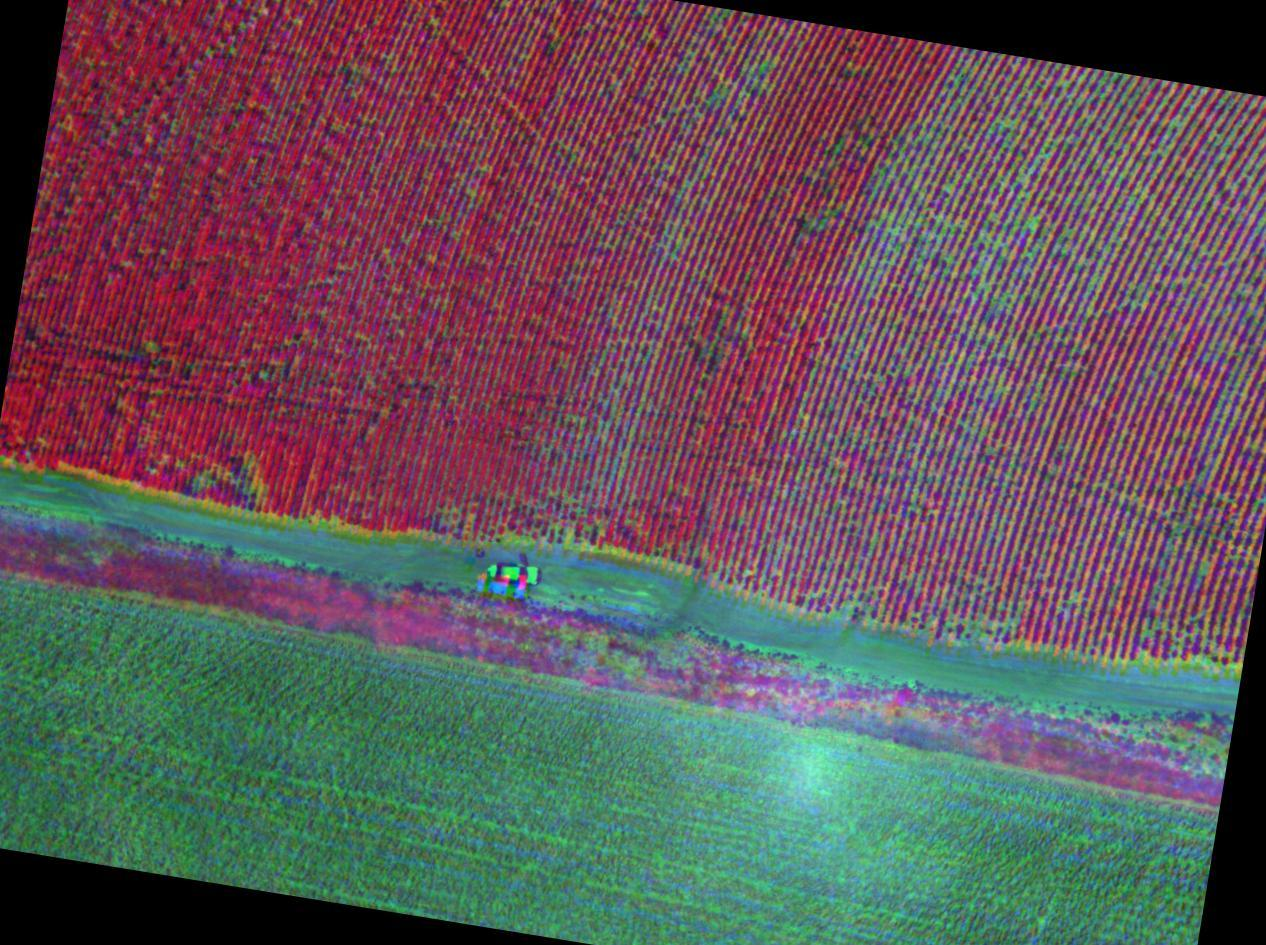dc: (821, 580, 1023, 651), (983, 164, 1093, 285), (1141, 187, 1235, 293), (858, 166, 957, 253), (956, 364, 1033, 466), (843, 305, 927, 390), (947, 81, 1038, 148)
